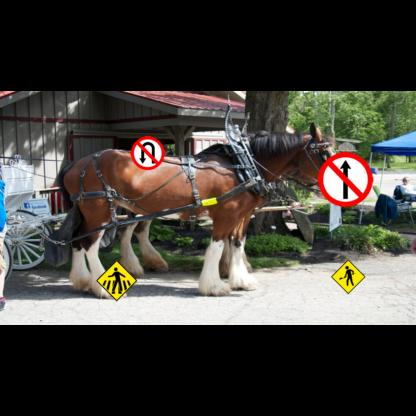A-24: (331, 259, 365, 294)
A-32b: (96, 260, 137, 301)
R-3: (318, 152, 373, 207)
R-5a: (131, 136, 165, 170)
